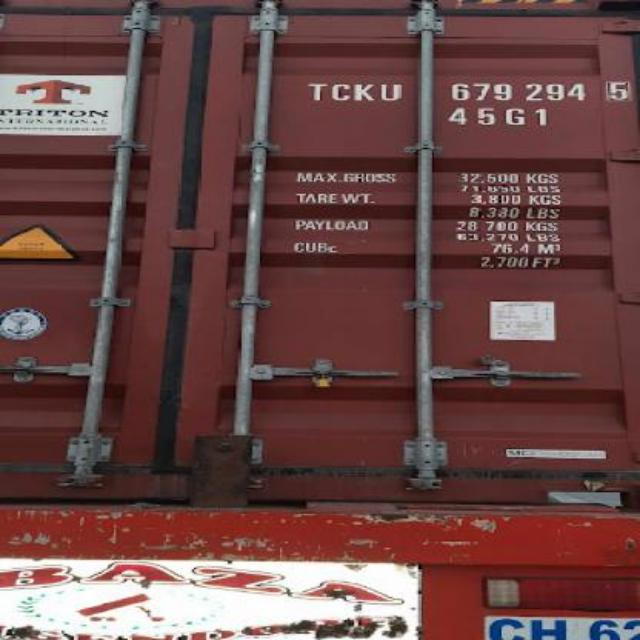2: (522, 81, 546, 101)
4: (568, 82, 588, 102)
5: (606, 83, 630, 101)
6: (448, 83, 472, 101)
7: (472, 81, 494, 101)
9: (546, 82, 568, 102), (492, 82, 516, 100)
C: (330, 82, 356, 102)
K: (356, 81, 374, 102)
T: (306, 82, 330, 102)
U: (374, 82, 402, 102)
